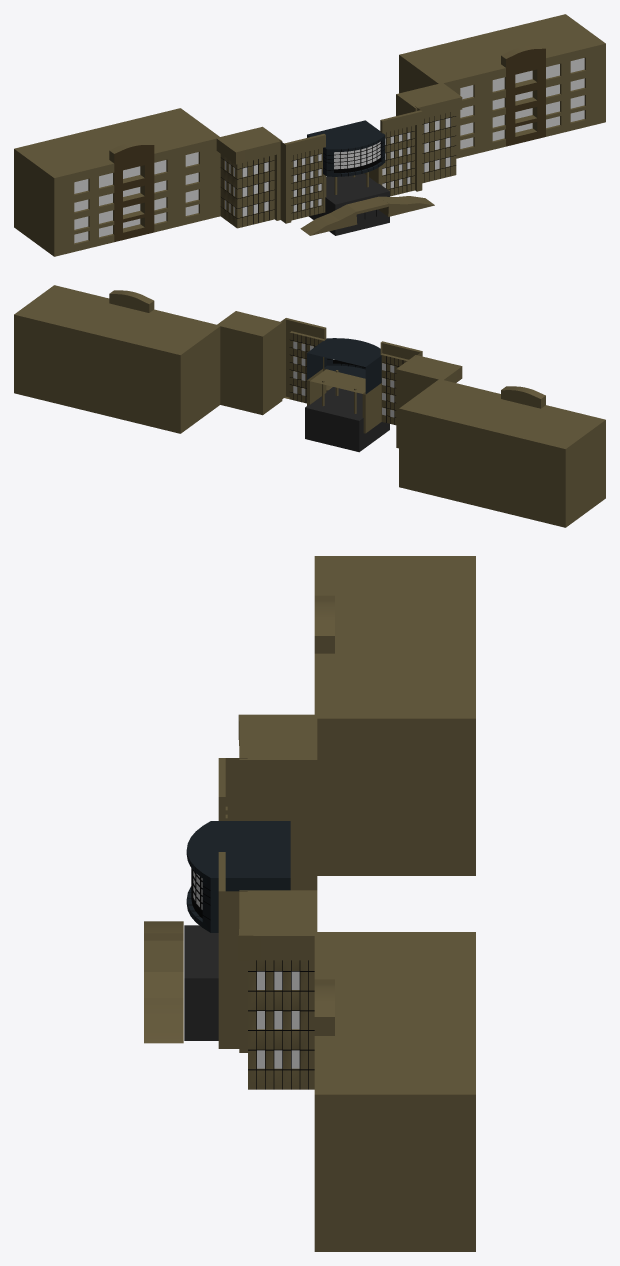
The model's file is Tejas.obj.
3 views of the same model, one above another, from view 1: azimuth 30°, elevation 25°; view 2: azimuth 150°, elevation 25°; view 3: azimuth 270°, elevation 25° (orthographic). The views are drawn at different scales.
Parts seen in each view (by area): view 1: pCube2.003, pCube2.002, group1_pCube2.003, group1_pCube2.002, pPlane1.001, pCube4.001, pCube3.001; view 2: pCube2.002, pCube2.003, group1_pCube2.002, pPlane1.001, group1_pCube2.003, pCube4.001; view 3: pCube2.002, pCube2.003, group1_pCube2.002, group1_pCube2.003, pPlane1.001, pCube3.001, pCube4.001.
Part boxes in pixels (left/top/right/bottom): pCube2.003: left=14, top=108, right=220, bottom=256; pCube2.002: left=399, top=14, right=605, bottom=158; group1_pCube2.003: left=216, top=126, right=325, bottom=228; group1_pCube2.002: left=380, top=83, right=462, bottom=196; pPlane1.001: left=307, top=120, right=385, bottom=212; pCube4.001: left=309, top=173, right=389, bottom=235; pCube3.001: left=300, top=196, right=434, bottom=235; pCube2.002: left=14, top=285, right=220, bottom=433; pCube2.003: left=399, top=379, right=605, bottom=527; group1_pCube2.002: left=217, top=311, right=326, bottom=415; pPlane1.001: left=307, top=338, right=381, bottom=433; group1_pCube2.003: left=380, top=341, right=462, bottom=448; pCube4.001: left=305, top=387, right=389, bottom=452; pCube2.002: left=314, top=932, right=475, bottom=1251; pCube2.003: left=314, top=556, right=475, bottom=875; group1_pCube2.002: left=218, top=852, right=317, bottom=1089; group1_pCube2.003: left=218, top=714, right=317, bottom=890; pPlane1.001: left=186, top=821, right=290, bottom=932; pCube3.001: left=144, top=921, right=183, bottom=1043; pCube4.001: left=184, top=925, right=218, bottom=1040.
Bounding box in the file's own units: 5.61 × 1.04 × 1.46.
